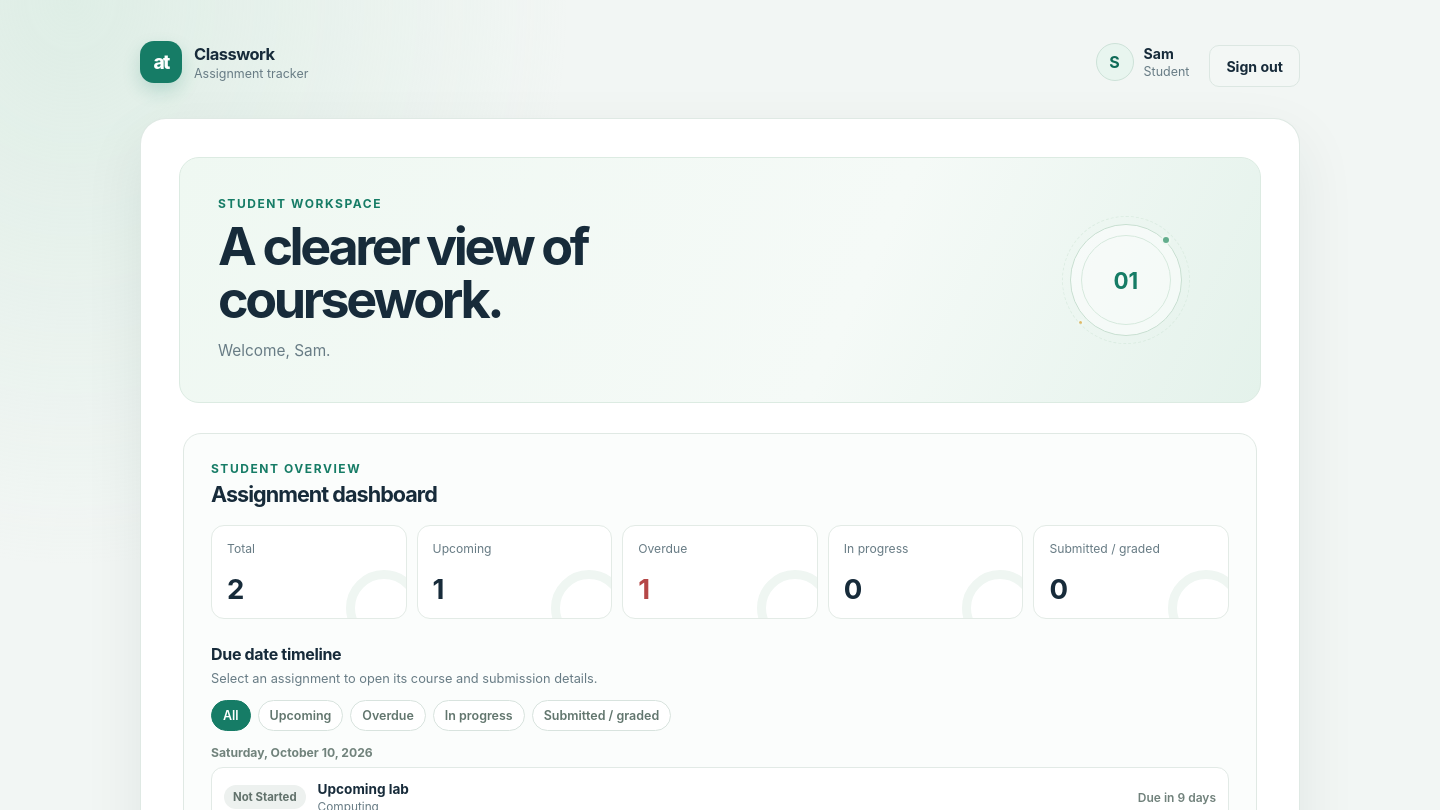
Test: a student can filter the dashboard timeline by assignment status
The width and height of the screenshot is (1440, 810).
expect the text "Upcoming lab" is shown: met, box x1=318 y1=781 x2=409 y2=797
Click the button "Overdue" at (388, 716), box x1=350 y1=700 x2=426 y2=731
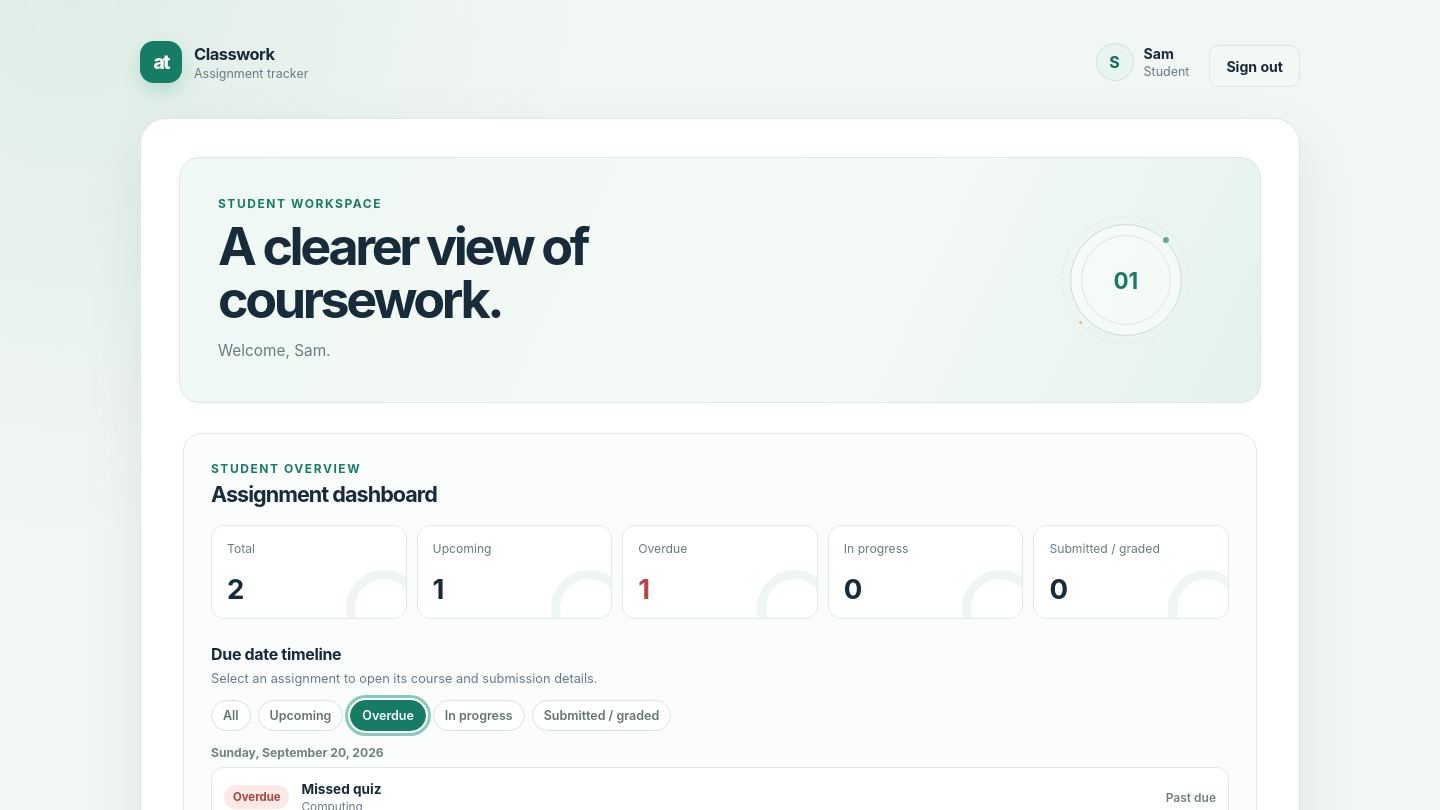
expect the text "Missed quiz" is shown: met, box x1=302 y1=781 x2=382 y2=797
expect the link "Upcoming lab" is gone: met
